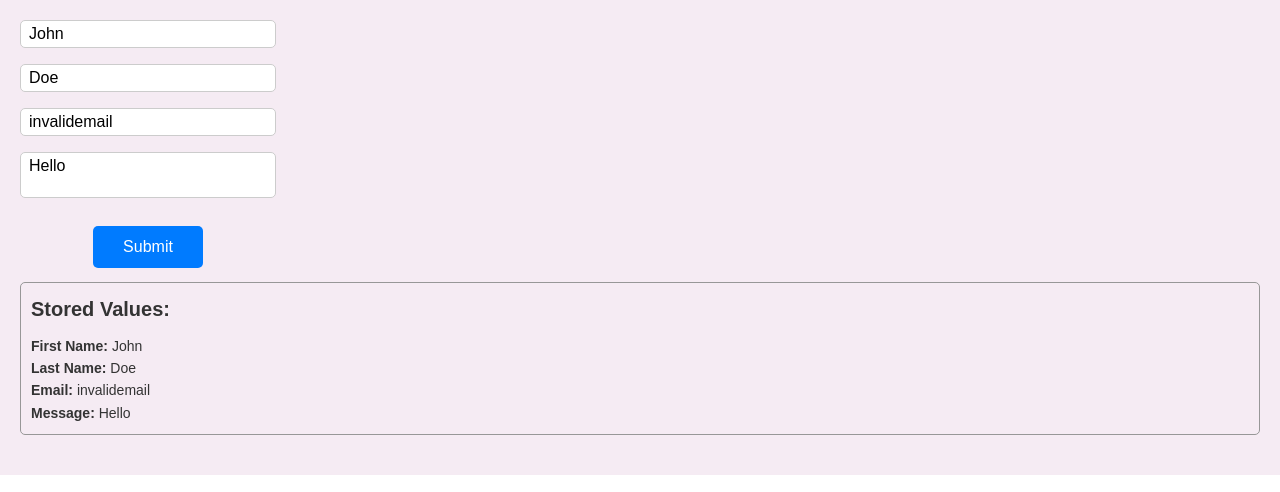
Test: Form Component › displays validation errors for invalid email
Click the button "Submit": x=148, y=247 left=93, top=226, right=203, bottom=268
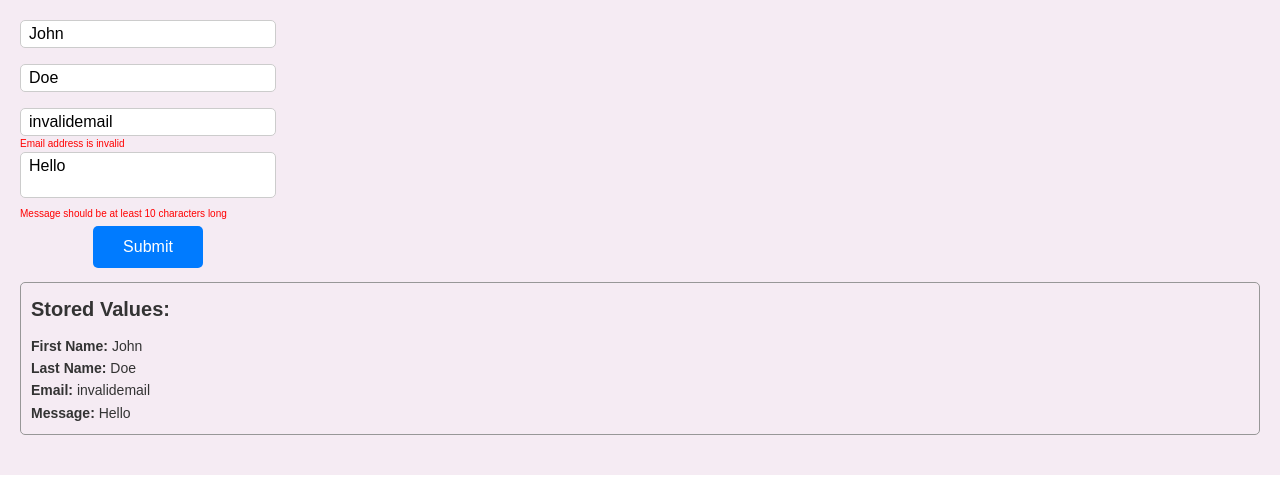
Now the text "Email address is invalid" is shown, box left=20, top=136, right=124, bottom=152
